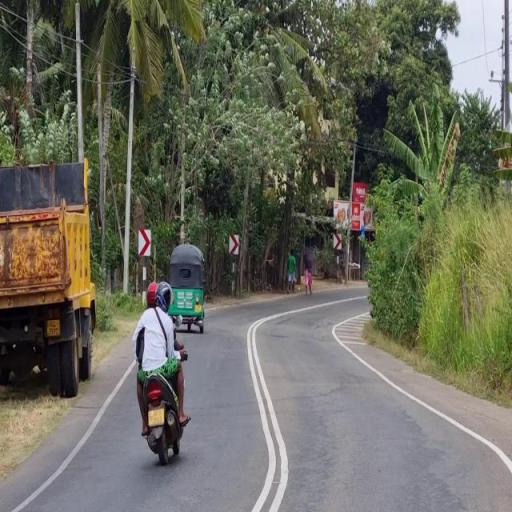double_white_line: (329, 318, 512, 472), (12, 356, 134, 511), (244, 312, 291, 511)
